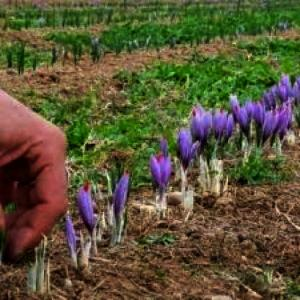Saffron: (78, 184, 98, 232), (150, 154, 172, 190), (178, 128, 197, 168), (114, 172, 130, 218), (236, 105, 252, 135), (263, 108, 277, 139)
